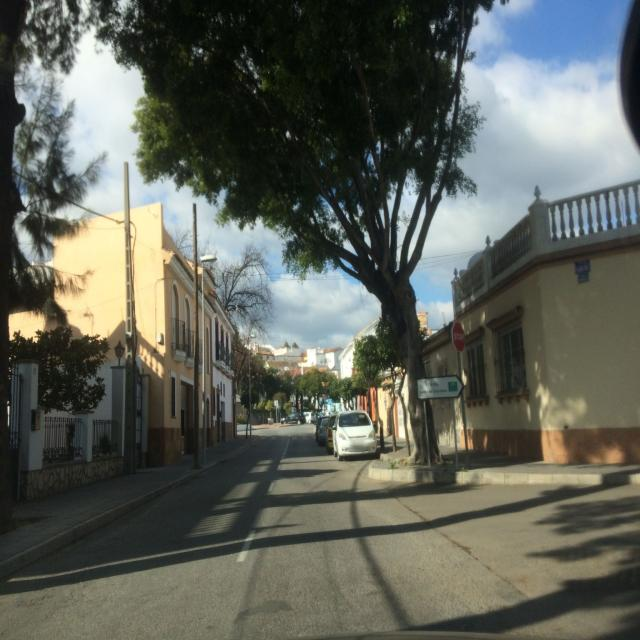car: (332, 409, 378, 461), (326, 415, 340, 453), (317, 416, 333, 446), (314, 413, 324, 442), (285, 412, 303, 425)
